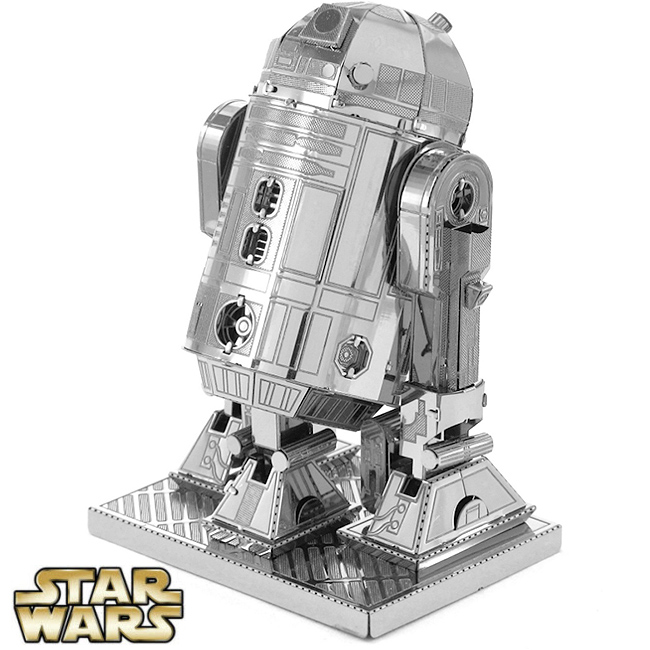r2d2: (171, 3, 537, 551)
